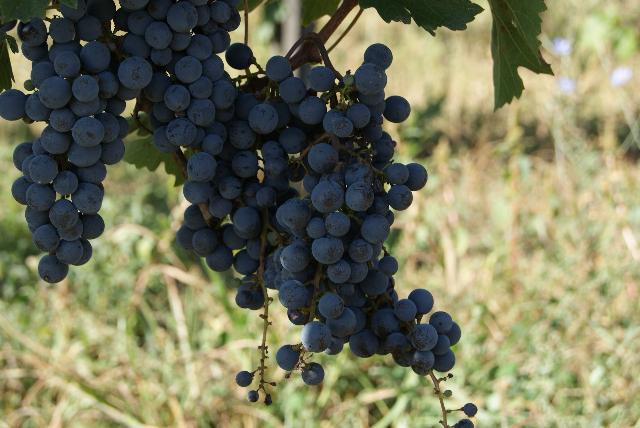grapes: (279, 45, 461, 375), (0, 0, 122, 284), (129, 0, 254, 204), (195, 85, 306, 280)
